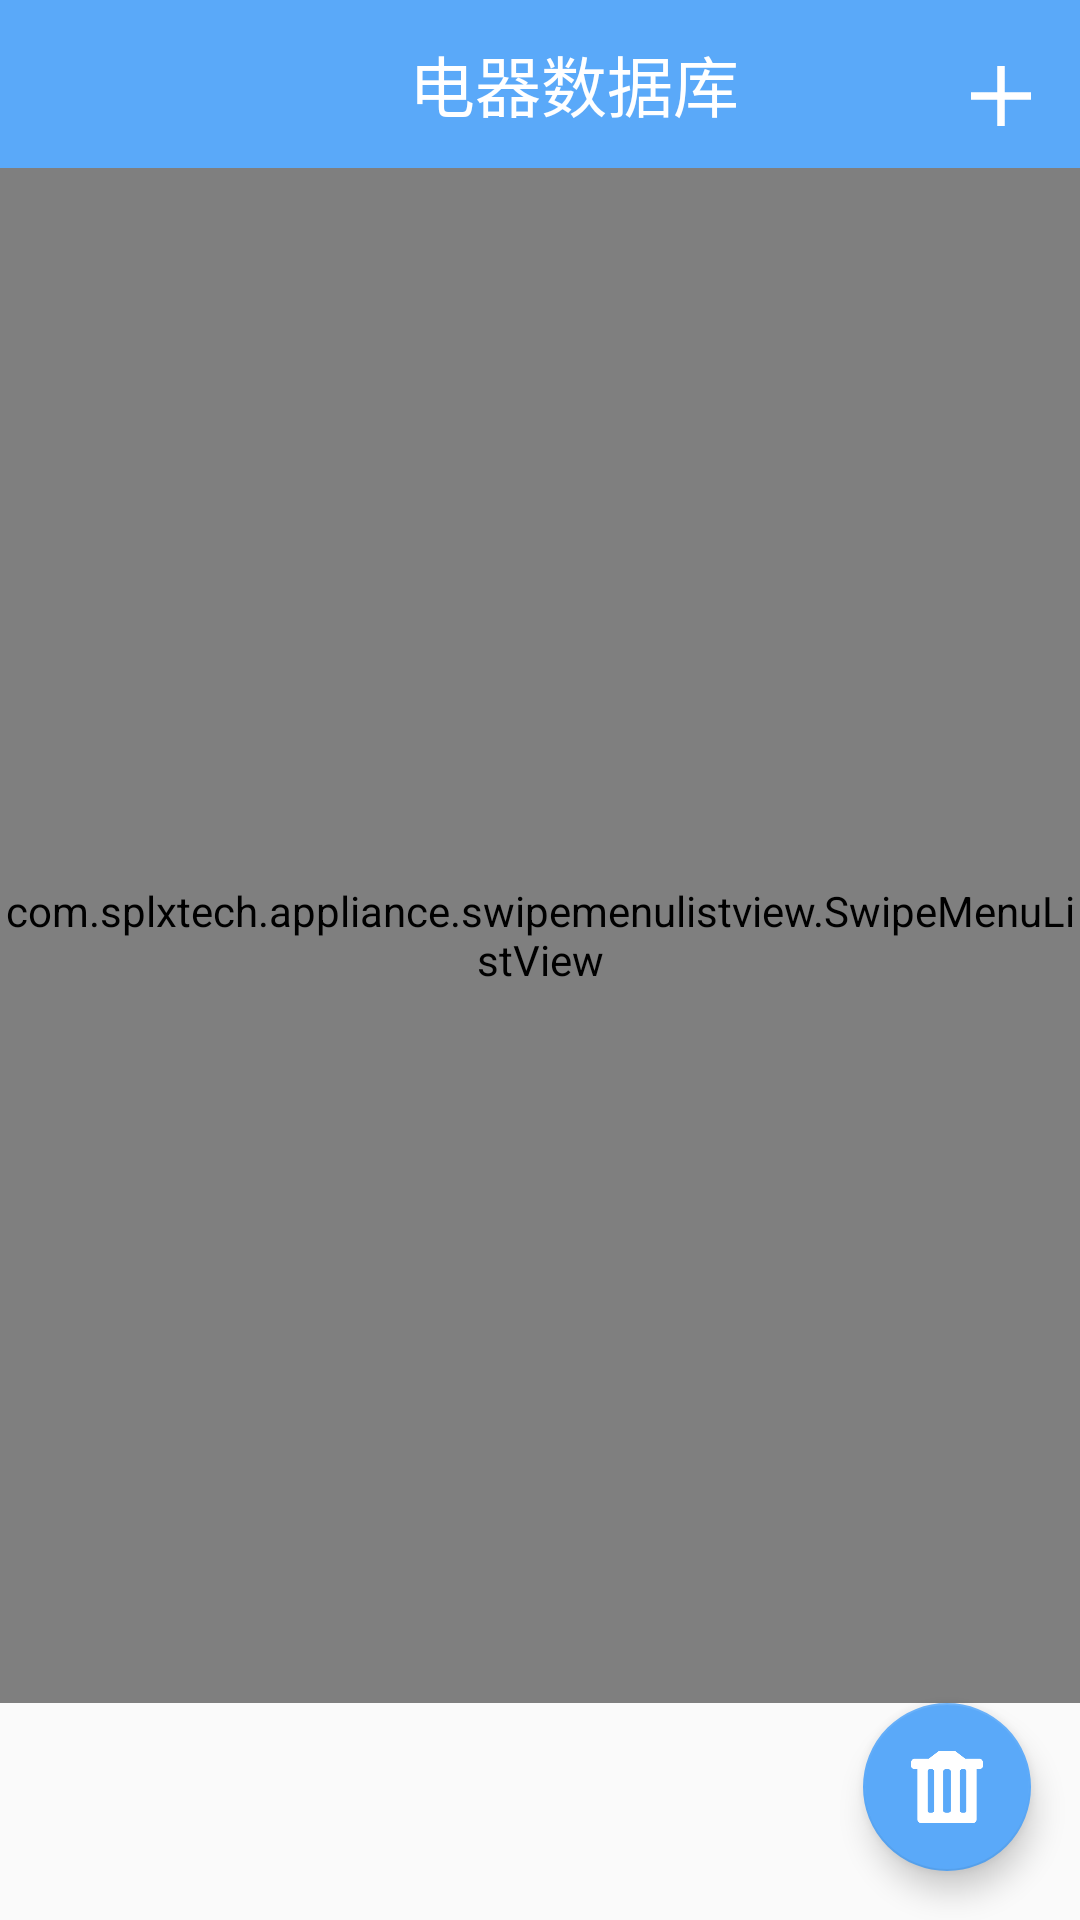

Named icons in this screenshot (1080px x 1920px) and their centers, (x=x, y=y):
delete all: (x=947, y=1787)
dilag add: (x=1001, y=96)
